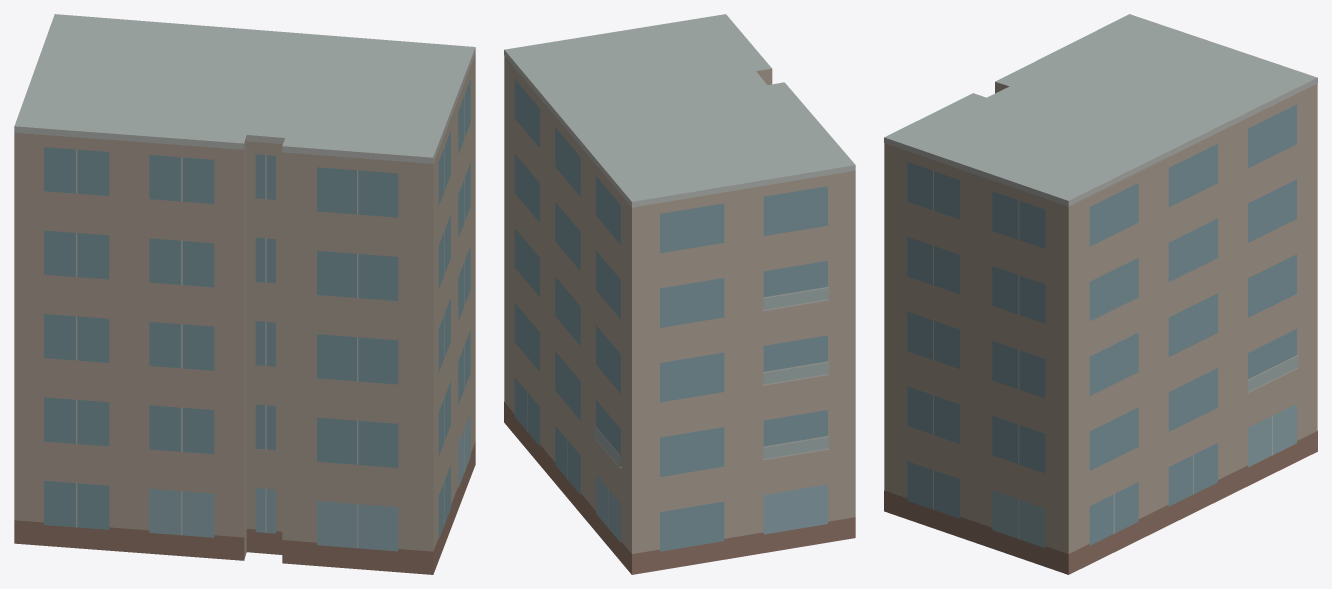
File: survey-upis-32961411.glb
The picture shows the model from 3 angles, left to right: view 1: azimuth 30°, elevation 25°; view 2: azimuth 150°, elevation 25°; view 3: azimuth 270°, elevation 25°; orthographic projection. The views are drawn at different scales.
Parts seen in each view (by area): view 1: survey-upis-32961411.tmp; view 2: survey-upis-32961411.tmp; view 3: survey-upis-32961411.tmp.
Part boxes in pixels (left/top/right/bottom): survey-upis-32961411.tmp: left=14, top=14, right=475, bottom=574; survey-upis-32961411.tmp: left=504, top=14, right=855, bottom=574; survey-upis-32961411.tmp: left=884, top=14, right=1317, bottom=574.
Bounding box in the file's own units: 17.37 × 16.2 × 17.03.
